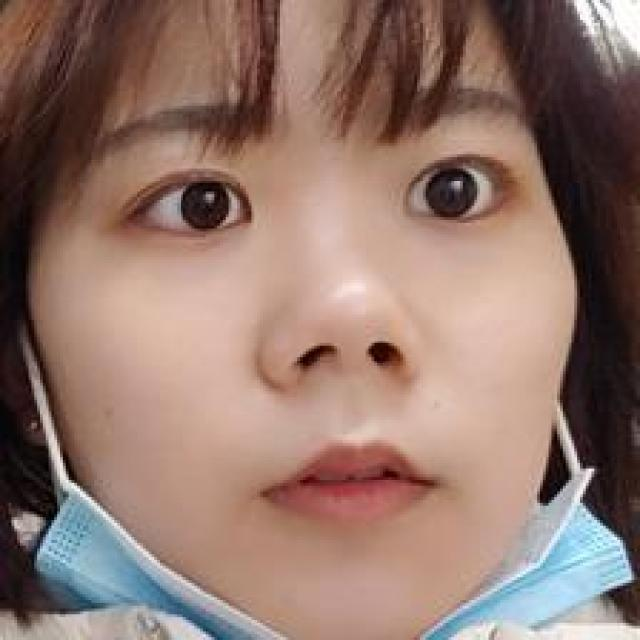fear: (66, 68, 536, 622)
